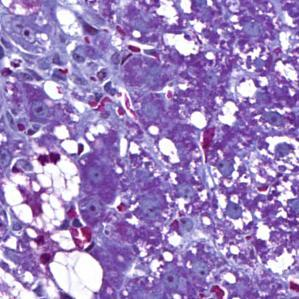ballooning: (6, 151, 84, 232)
